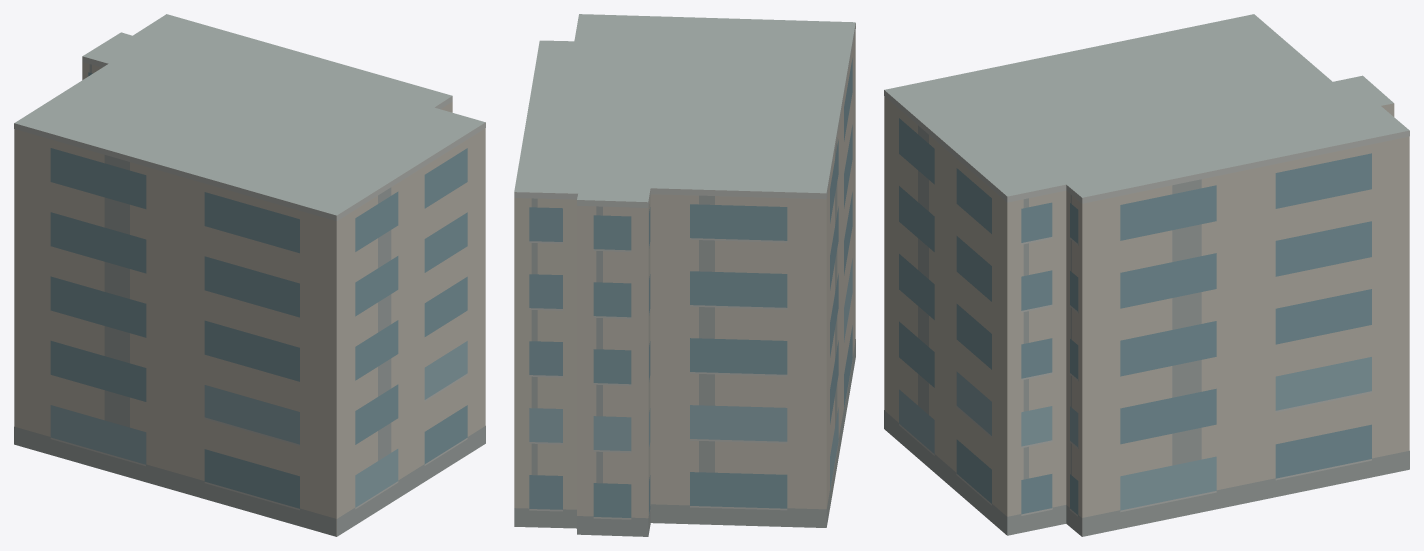
File: survey-upis-32903949.glb
3 renders of one model, left to right at view 1: azimuth 30°, elevation 25°; view 2: azimuth 150°, elevation 25°; view 3: azimuth 270°, elevation 25°, orthographic. The views are drawn at different scales.
Parts seen in each view (by area): view 1: survey-upis-32903949.tmp; view 2: survey-upis-32903949.tmp; view 3: survey-upis-32903949.tmp.
Boxes of the visible parts, left/top/right/bottom form: survey-upis-32903949.tmp: left=14, top=14, right=485, bottom=536; survey-upis-32903949.tmp: left=514, top=14, right=855, bottom=536; survey-upis-32903949.tmp: left=884, top=14, right=1409, bottom=536.
Size of the model in its own units: 16.05 by 13.8 by 19.4.
